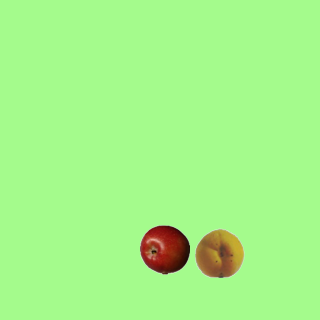Apple Braeburn: (139, 224, 189, 274)
Peach 2: (194, 227, 244, 277)
